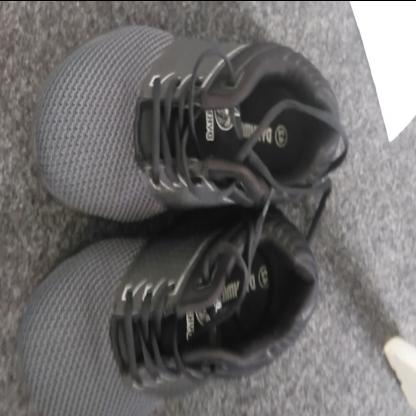safety-shoe: (20, 27, 342, 414)
